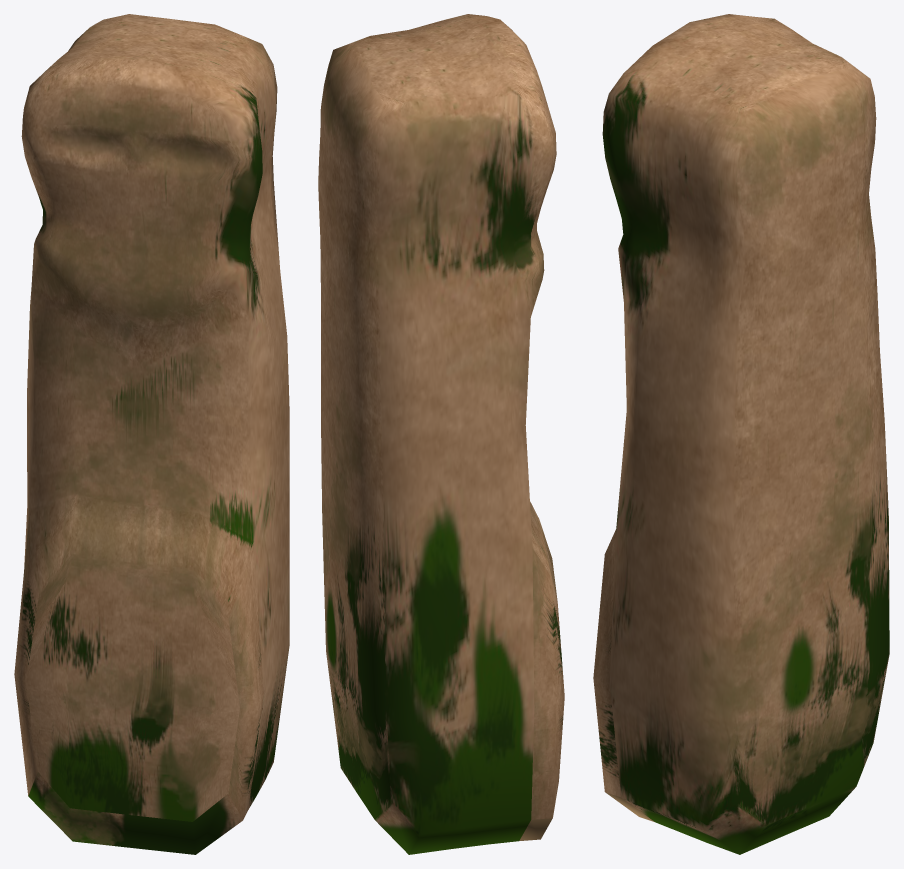
Rendered from piedra_guerrero.fbx.
3 views of the same model, side by side, from view 1: azimuth 30°, elevation 25°; view 2: azimuth 150°, elevation 25°; view 3: azimuth 270°, elevation 25° (orthographic).
Parts seen in each view (by area): view 1: polySurface1; view 2: polySurface1; view 3: polySurface1.
Part boxes in pixels (x1,y1,x2,y2): polySurface1: (14,14,289,854); polySurface1: (318,14,564,854); polySurface1: (593,14,889,854).
Bounding box in the file's own units: 1.25 × 3.76 × 1.29.
